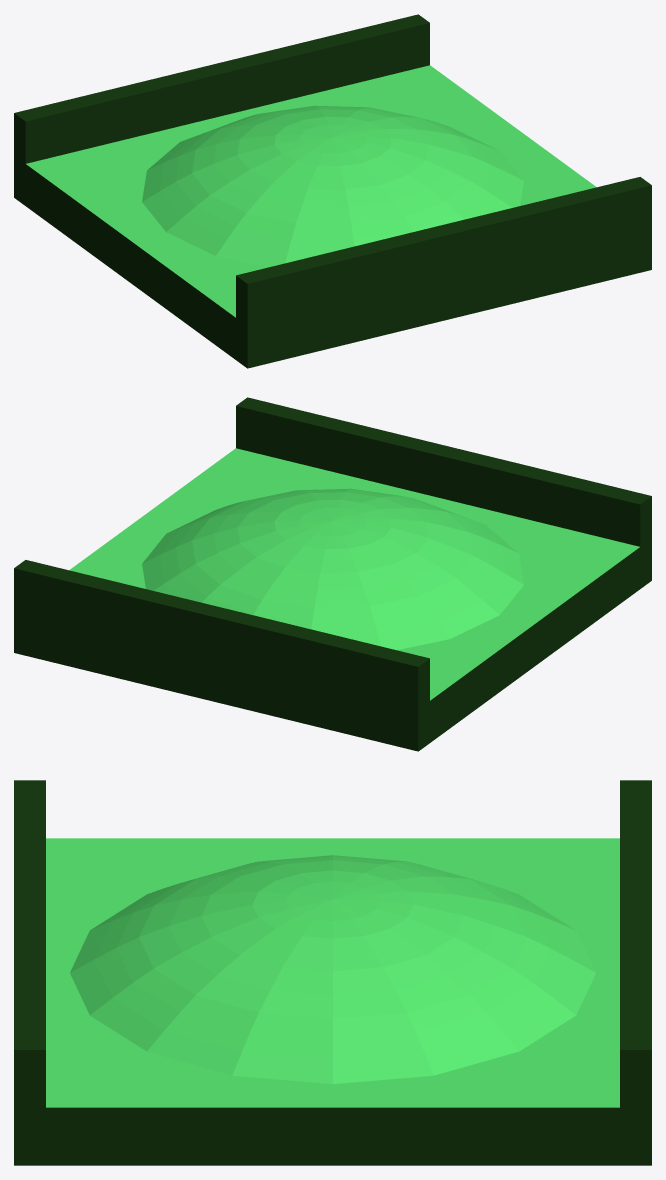
Rendered from MG Mound 2.fbx.
3 renders of one model, top to bottom at view 1: azimuth 30°, elevation 25°; view 2: azimuth 150°, elevation 25°; view 3: azimuth 270°, elevation 25°, orthographic. The views are drawn at different scales.
Visible parts, largest first — view 1: MG Mound 2; view 2: MG Mound 2; view 3: MG Mound 2.
Part boxes in pixels (<box>): MG Mound 2: <box>14,14,651,368</box>; MG Mound 2: <box>14,397,651,751</box>; MG Mound 2: <box>14,780,651,1165</box>.
Bounding box in the file's own units: 200 × 45.5 × 200.
